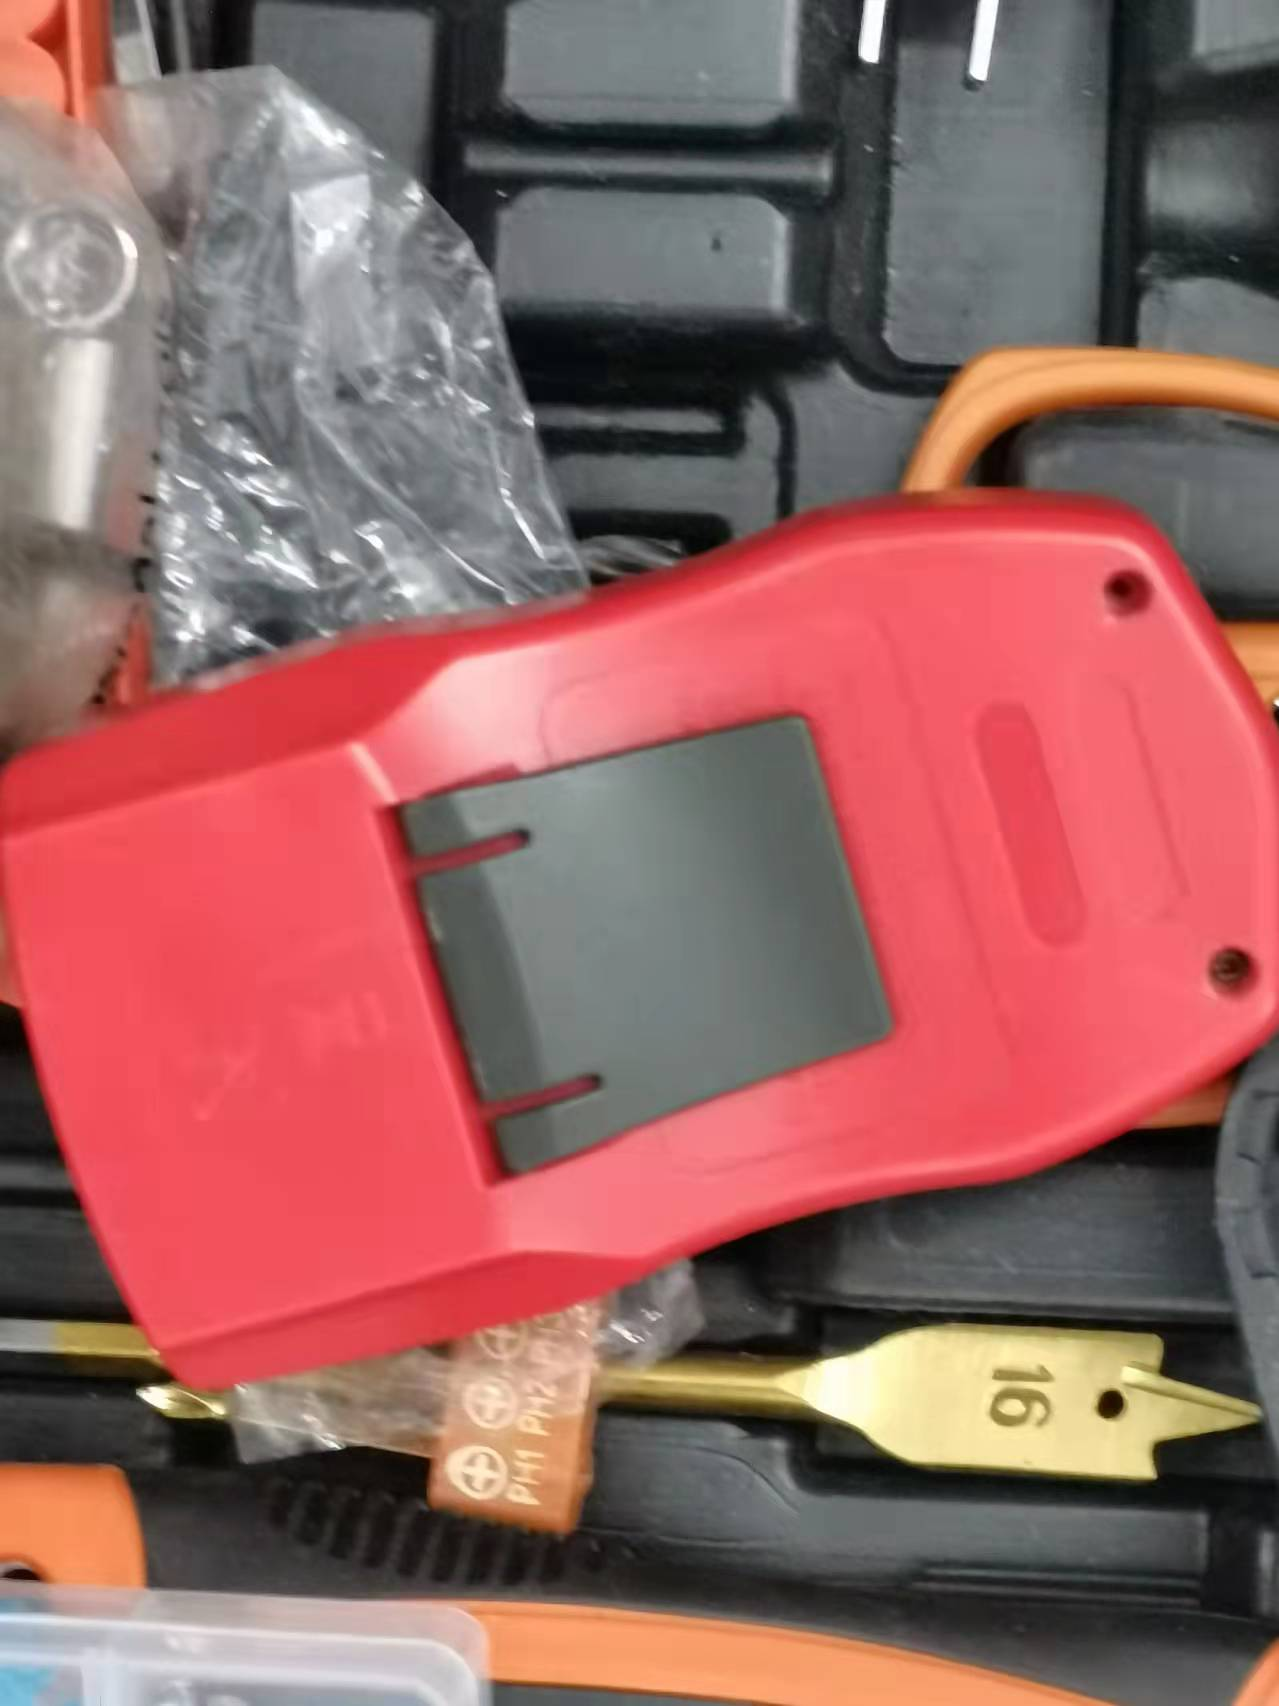Multimeter: (1, 494, 1276, 1400)
Screw holes: (1098, 560, 1163, 621), (1202, 944, 1262, 999)
